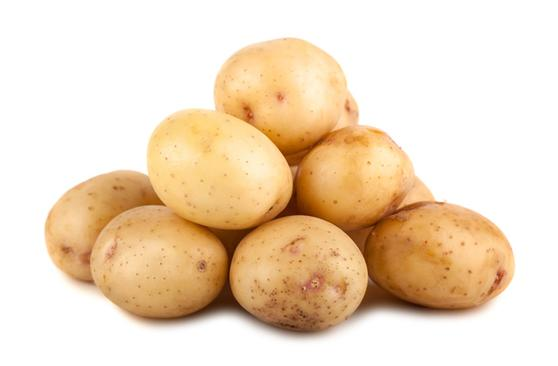potato: (363, 196, 516, 315), (86, 200, 232, 321), (226, 212, 370, 332), (148, 108, 292, 225), (291, 123, 410, 226)
